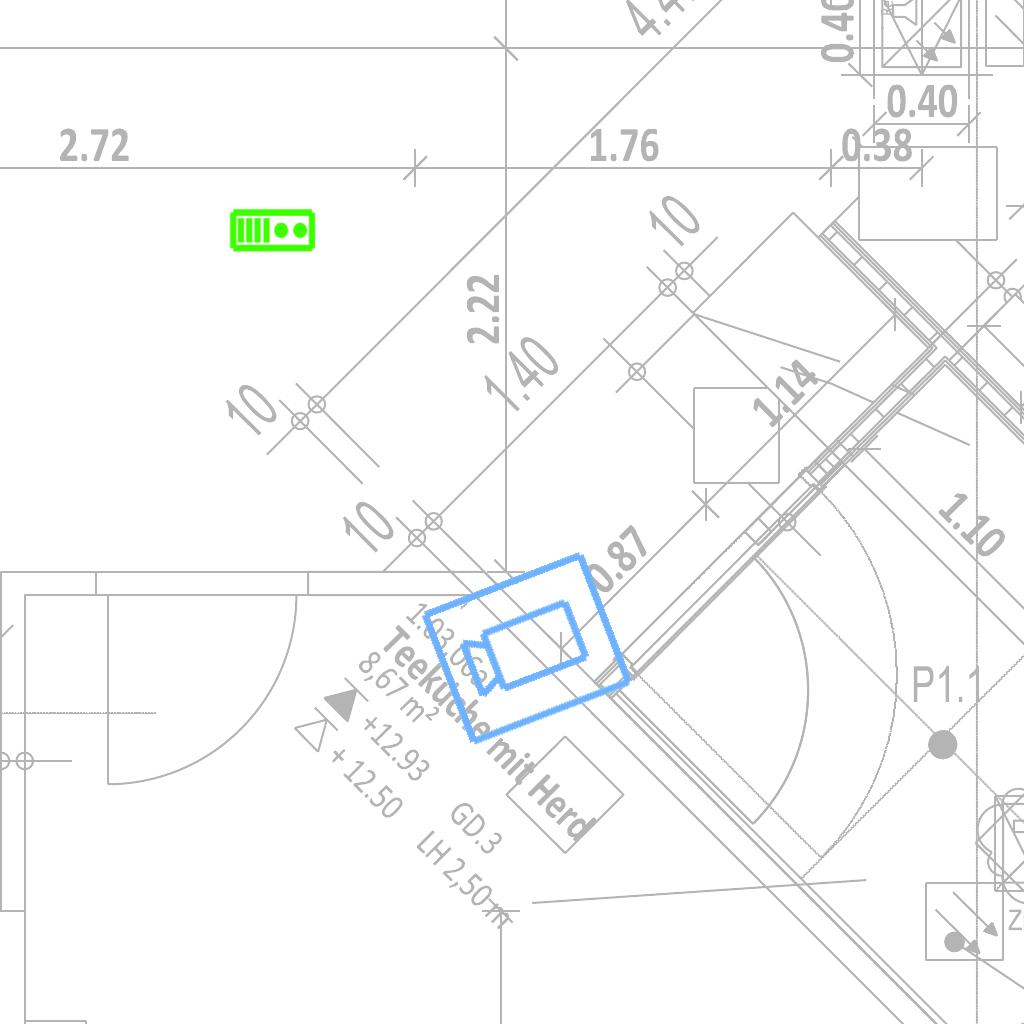Gegensprechanlage_mit_Video: (229, 206, 317, 253)
KFO_Kamera_mit_Festobjektiv: (414, 542, 640, 752)
